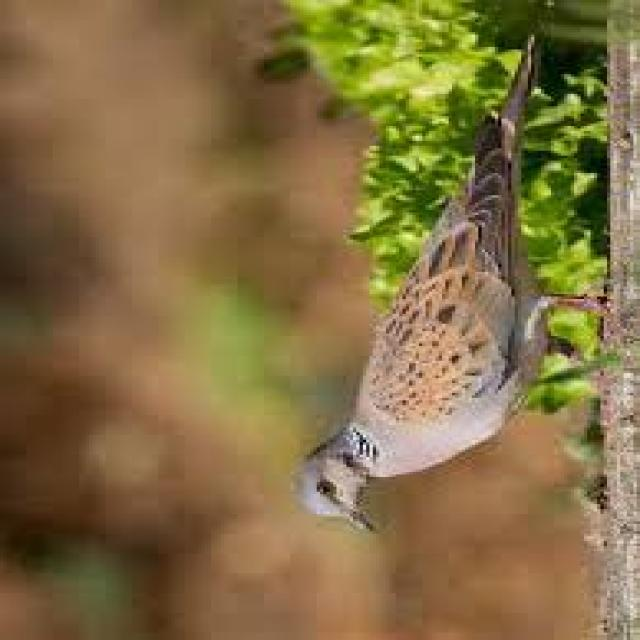pigeon: (270, 36, 600, 551)
